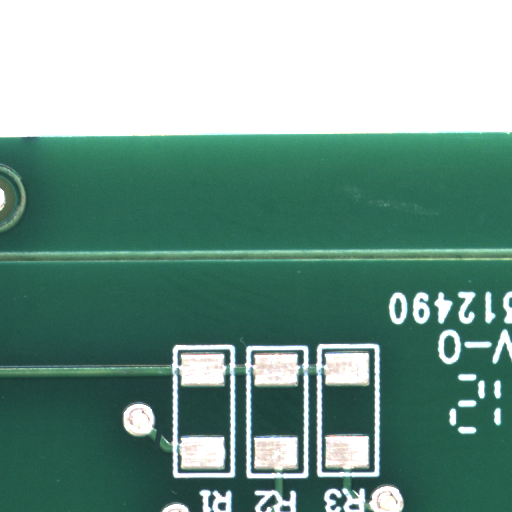Open_circuit: (157, 438, 168, 460)
